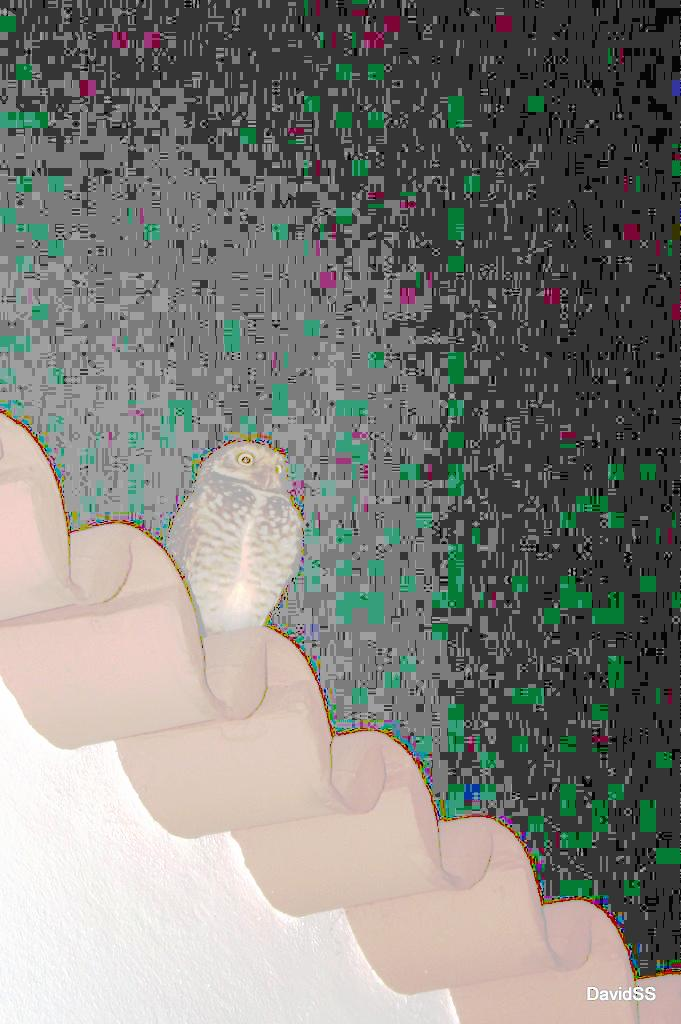Owl: (161, 439, 309, 622)
